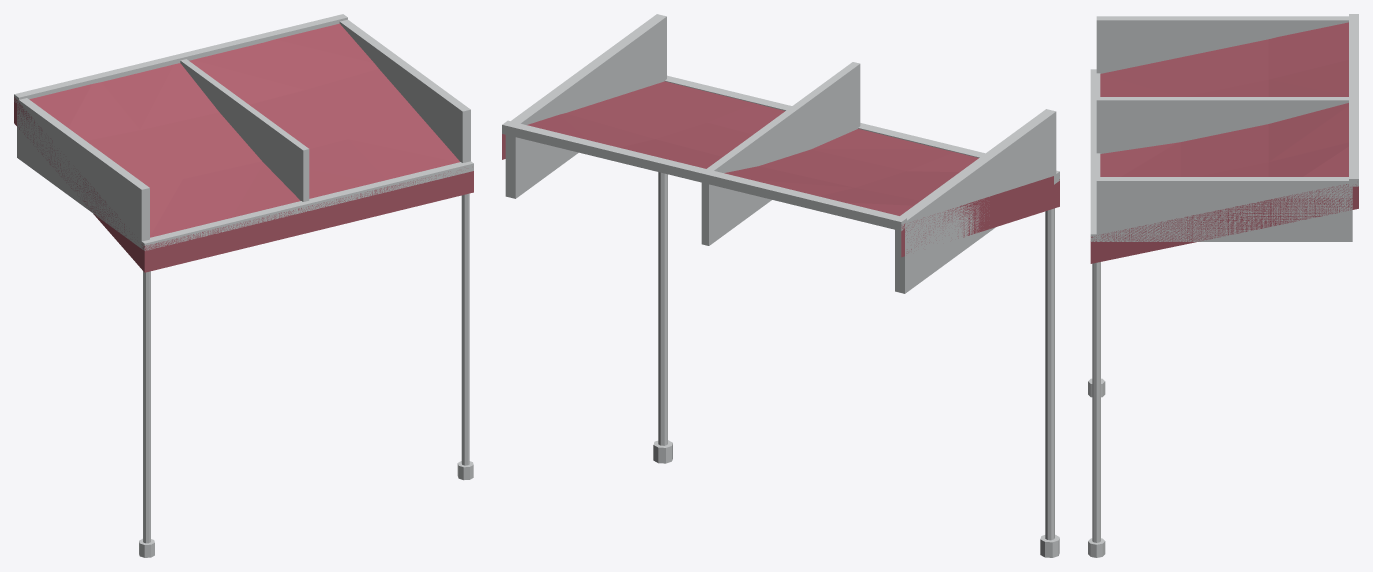
Rendered from hotel_entry_canopy.glb.
The picture shows the model from 3 angles, left to right: view 1: azimuth 30°, elevation 25°; view 2: azimuth 150°, elevation 25°; view 3: azimuth 270°, elevation 25°; orthographic projection. The views are drawn at different scales.
Visible parts, largest first — view 1: hotel_entry_canopy; view 2: hotel_entry_canopy; view 3: hotel_entry_canopy.
Boxes of the visible parts, bbox=[...] form: hotel_entry_canopy: bbox=[14, 14, 473, 557]; hotel_entry_canopy: bbox=[502, 14, 1059, 557]; hotel_entry_canopy: bbox=[1088, 14, 1358, 557].
Bounding box in the file's own units: 3.24 × 3.42 × 2.22.
